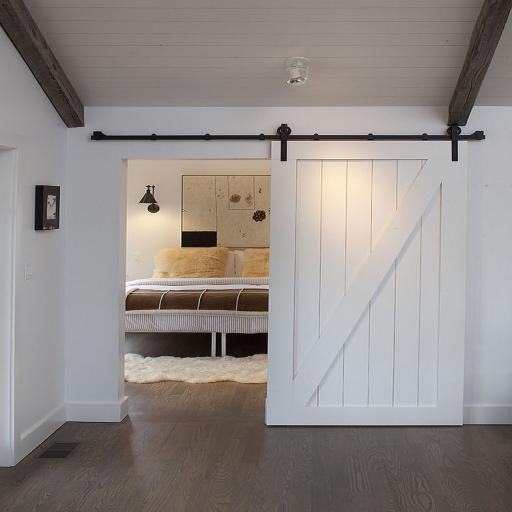Door: (265, 140, 469, 426)
